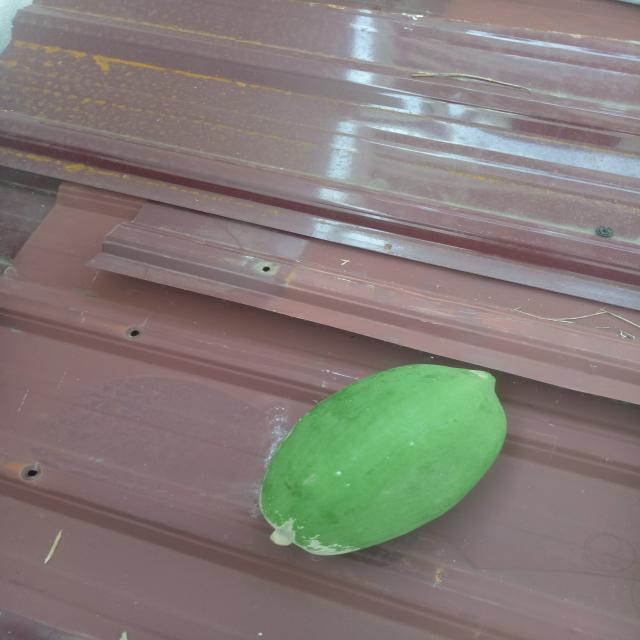Pepaya unrippen: (258, 360, 533, 560)
